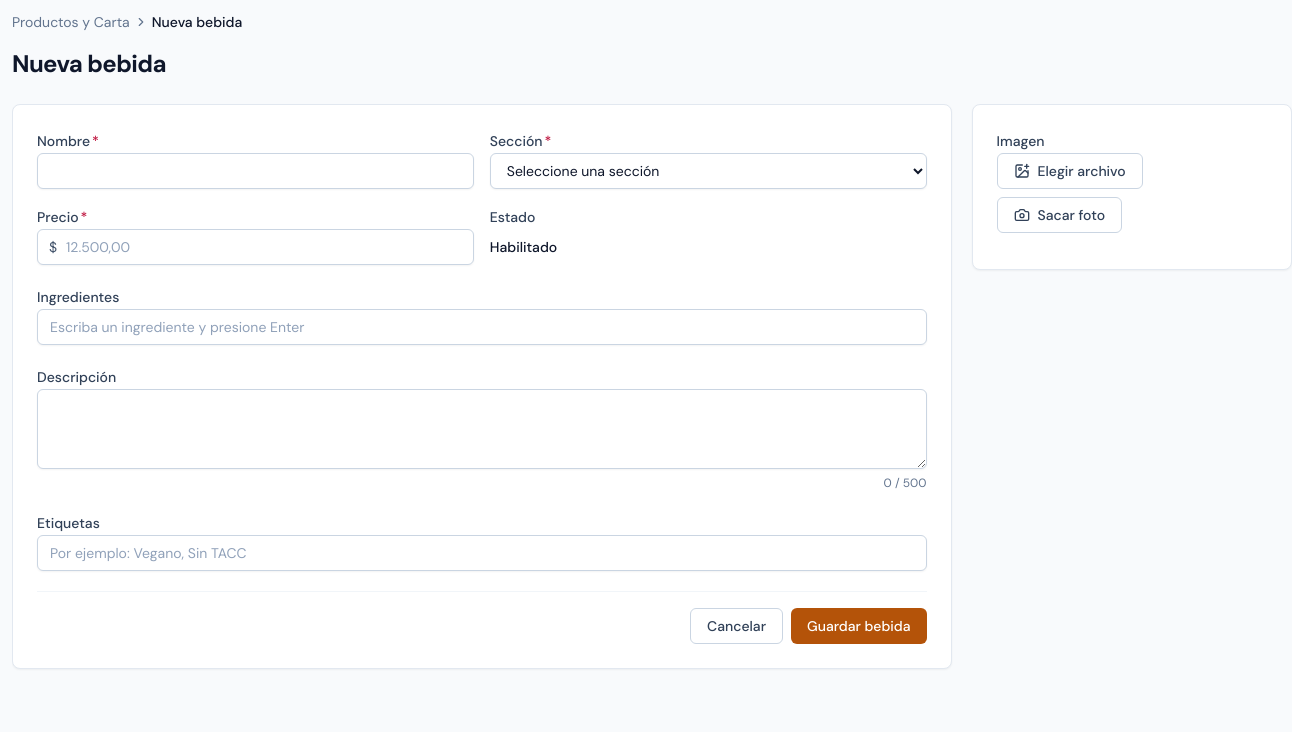
Test: ProductoNuevoPage BEBIDA: validaciones › con campos vacíos no envía y marca cada campo obligatorio (CA 2)
This screenshot has width=1292, height=732.
Expected: the field labelled "Nombre*" is shown, [37,153,474,189]
Click the button "Guardar bebida": (859, 626) [791,608,927,644]
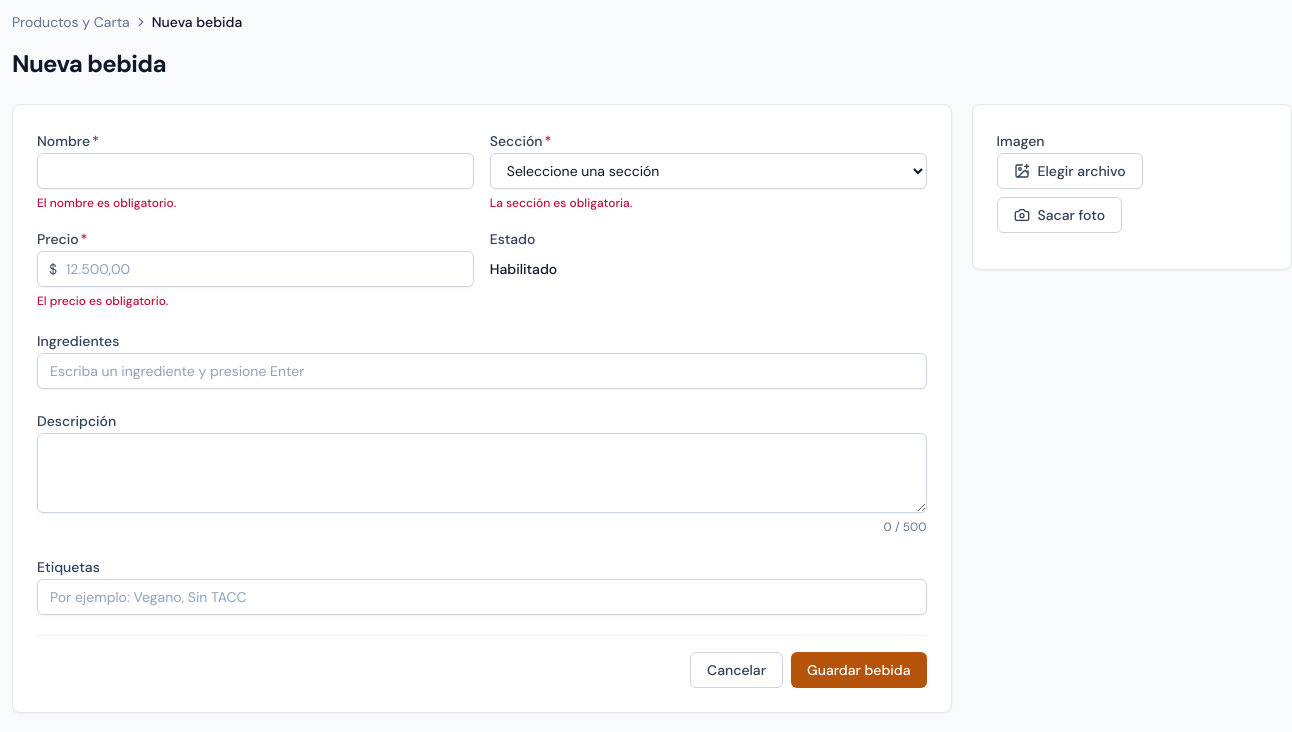
Now the text "El nombre es obligatorio." is shown, box [37,195,176,211]
Now the text "La sección es obligatoria." is shown, box [490,195,632,211]
Now the text "El precio es obligatorio." is shown, box [37,293,168,309]
